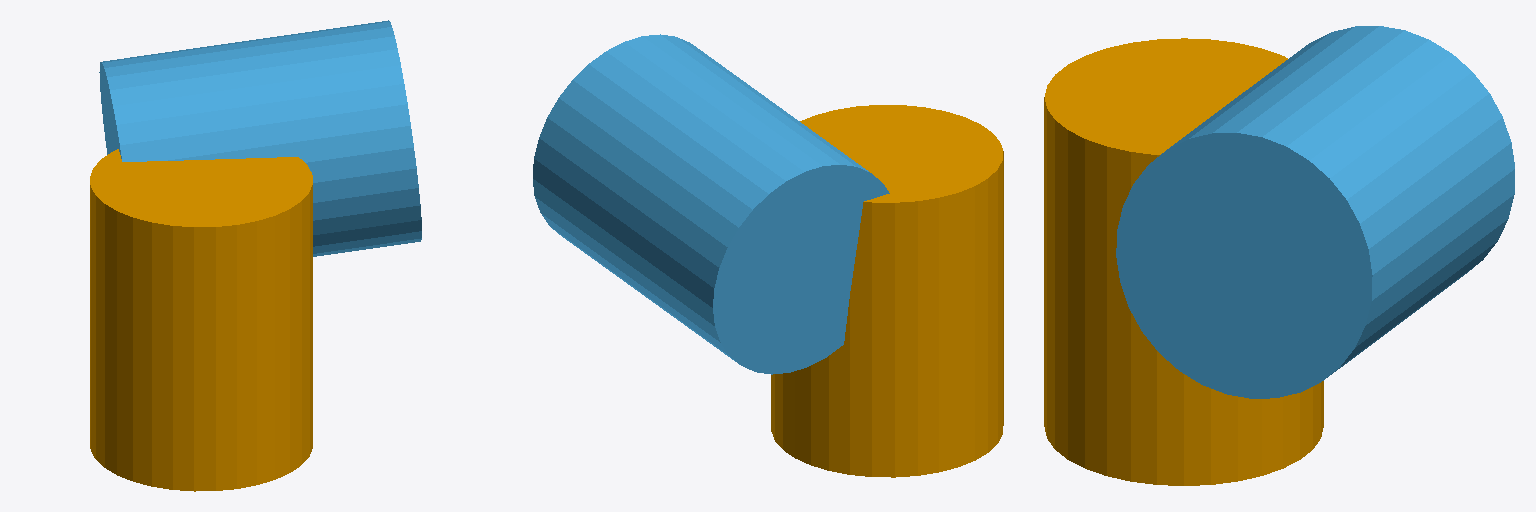
robot.urdf — pepe:
<?xml version="1.0"?><robot name="pepe">
	<link name="0">
		<visual>
			<geometry>
				<cylinder length="1.3226540799037858" radius="0.507474688480845"/>
			</geometry>
		</visual>
		<collision>
			<geometry>
				<cylinder length="1.3226540799037858" radius="0.507474688480845"/>
			</geometry>
		</collision>
		<inertial>
			<mass value="1.0701013695757267"/>
			<inertia ixx="0.03" iyy="0.03" izz="0.03" ixy="0" ixz="0" iyx="0"/>
		</inertial>
	</link>
	<link name="11">
		<visual>
			<geometry>
				<cylinder length="1.3226540799037858" radius="0.507474688480845"/>
			</geometry>
		</visual>
		<collision>
			<geometry>
				<cylinder length="1.3226540799037858" radius="0.507474688480845"/>
			</geometry>
		</collision>
		<inertial>
			<mass value="1.0701013695757267"/>
			<inertia ixx="0.03" iyy="0.03" izz="0.03" ixy="0" ixz="0" iyx="0"/>
		</inertial>
	</link>
	<joint name="11_to_0" type="revolute">
		<parent link="0"/>
		<child link="11"/>
		<axis xyz="1 0 0"/>
		<limit effort="1" upper="-3.1415" lower="3.1415" velocity="1"/>
		<origin rpy="11.15639248529773 0.8811088340467688 4.430921013977703" xyz="0.5870239214246729 0.4788840155358547 0.47372912231897324"/>
	</joint>
</robot>

--- Render facts (derived) ---
Views: 3 orthographic renders of the robot side by side, from view 1: azimuth 30°, elevation 25°; view 2: azimuth 150°, elevation 25°; view 3: azimuth 270°, elevation 25°.
Model pepe with 2 links and 1 joints (1 revolute), rooted at 0, posed every joint at zero.
Links seen in each view (by area): view 1: 0, 11; view 2: 11, 0; view 3: 11, 0.
Link boxes in pixels (x1=…): 0: x1=90, y1=149, x2=312, y2=491; 11: x1=99, y1=20, x2=421, y2=256; 11: x1=533, y1=34, x2=889, y2=374; 0: x1=771, y1=105, x2=1003, y2=477; 11: x1=1116, y1=26, x2=1514, y2=398; 0: x1=1044, y1=38, x2=1323, y2=485.
Bounding box of the posed robot: 1.9 × 1.71 × 1.71 m (x, y, z).
Geometry: primitives only (box / cylinder / sphere), no mesh files.
